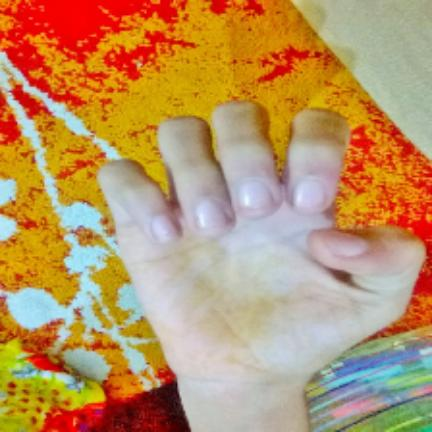Nail: (293, 176, 326, 213), (326, 230, 368, 257), (238, 178, 273, 210), (195, 199, 227, 229), (151, 216, 176, 243)
